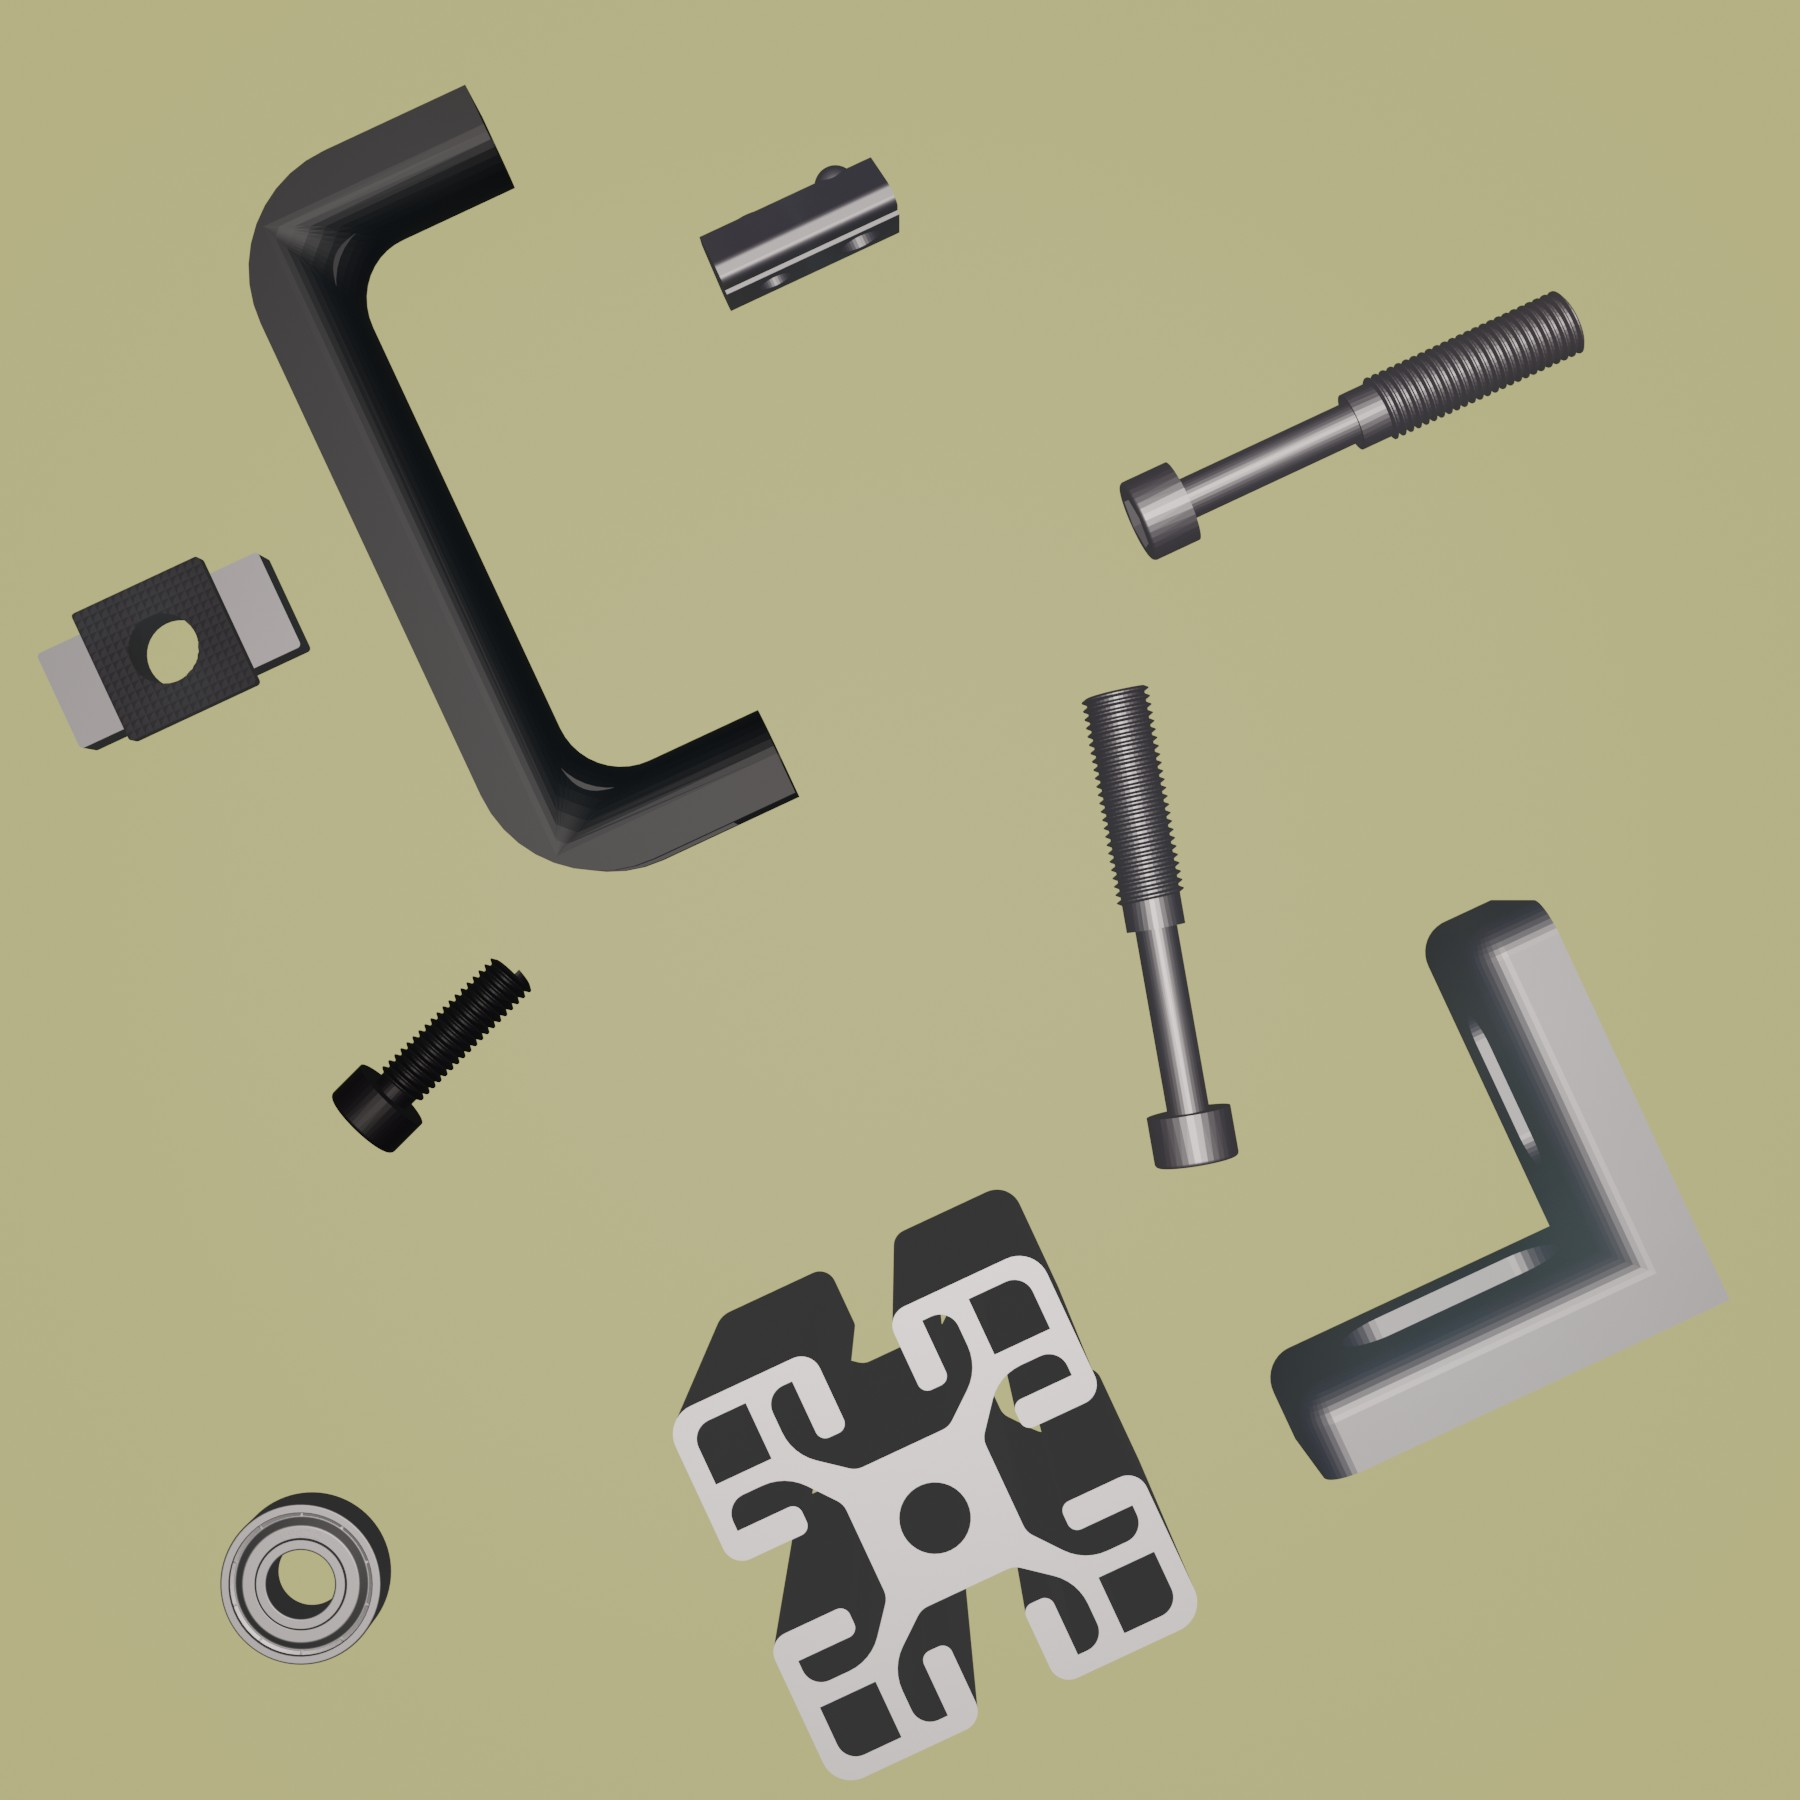Aluminium Extension: (669, 1187, 1203, 1788)
Ball Bearing: (216, 1488, 392, 1670)
Multiwinkel: (1269, 897, 1737, 1485)
Pull Handle: (247, 82, 799, 874)
Shoulder Socket Head Cap Screw: (1118, 288, 1589, 564), (1078, 681, 1241, 1172)
Socket Head Cap Screw: (326, 954, 532, 1157)
T Nut Square: (35, 551, 315, 755)
T Spring Nut: (701, 153, 905, 316)
